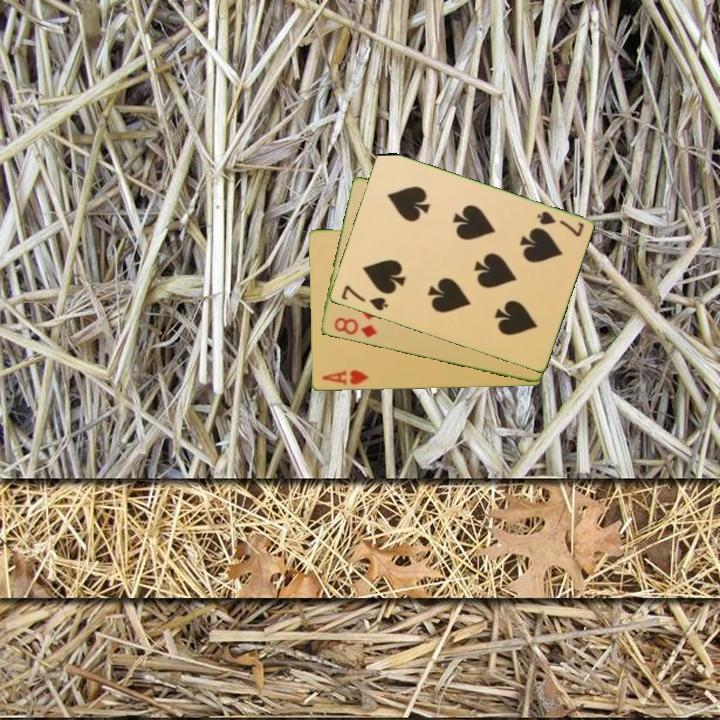7s: (337, 282, 391, 314), (533, 208, 587, 240)
8d: (330, 314, 380, 341)
Ah: (318, 367, 371, 388)
